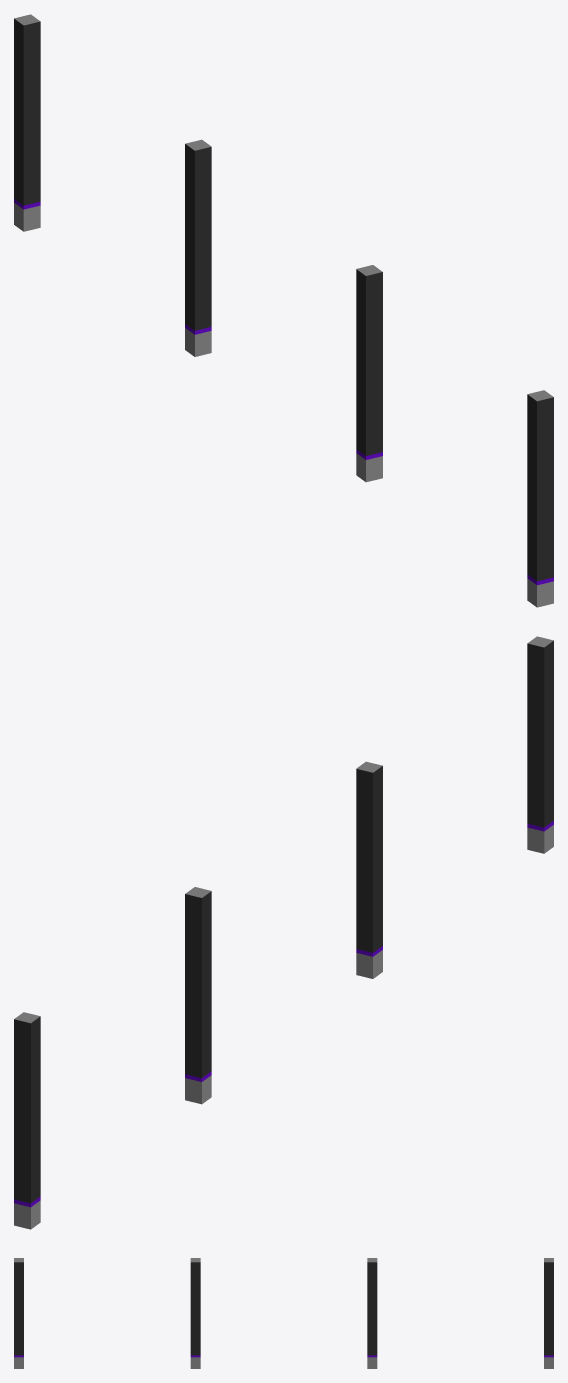
Rendered from Estructura_Columnas_Columnas.FBX.
3 views of the same model, one above another, from view 1: azimuth 30°, elevation 25°; view 2: azimuth 150°, elevation 25°; view 3: azimuth 270°, elevation 25° (orthographic). The views are drawn at different scales.
Visible parts, largest first — view 1: Estructura_Columnas_Columnas; view 2: Estructura_Columnas_Columnas; view 3: Estructura_Columnas_Columnas.
Boxes of the visible parts, left/top/right/bottom form: Estructura_Columnas_Columnas: left=14, top=14, right=553, bottom=607; Estructura_Columnas_Columnas: left=14, top=636, right=553, bottom=1229; Estructura_Columnas_Columnas: left=14, top=1258, right=553, bottom=1368.
Size of what is drawn, in the model's own units: 90 by 4826 by 1050.
